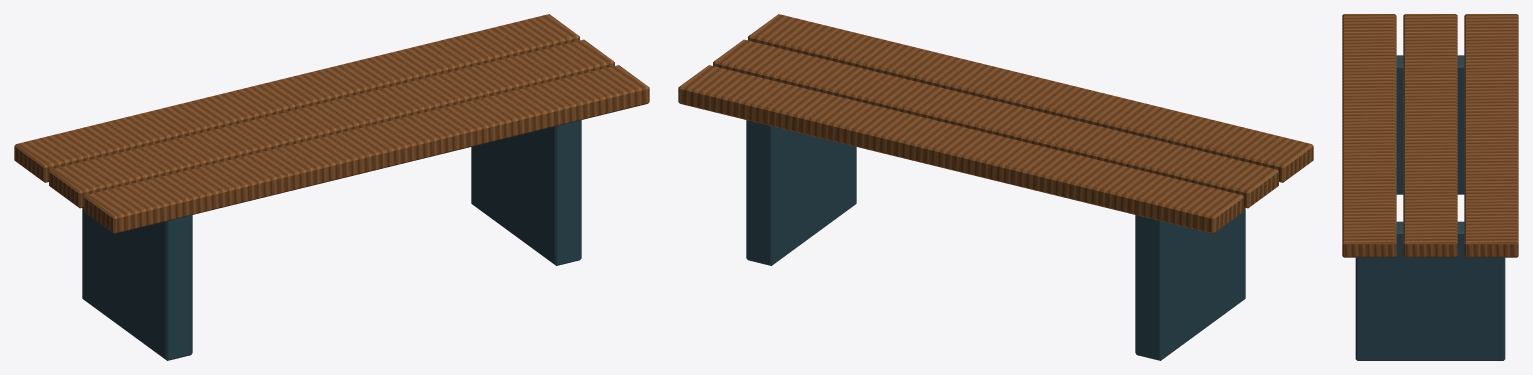
File: bench.glb
The picture shows the model from 3 angles, left to right: view 1: azimuth 30°, elevation 25°; view 2: azimuth 150°, elevation 25°; view 3: azimuth 270°, elevation 25°; orthographic projection. The views are drawn at different scales.
Parts seen in each view (by area): view 1: bench; view 2: bench; view 3: bench.
Part boxes in pixels (x1,y1,x2,y2): bench: (14,14,649,360); bench: (678,14,1313,360); bench: (1342,14,1518,360).
Size of the model in its own units: 1.6 by 0.47 by 0.52.
Materials: 2 (1 with a texture image).
